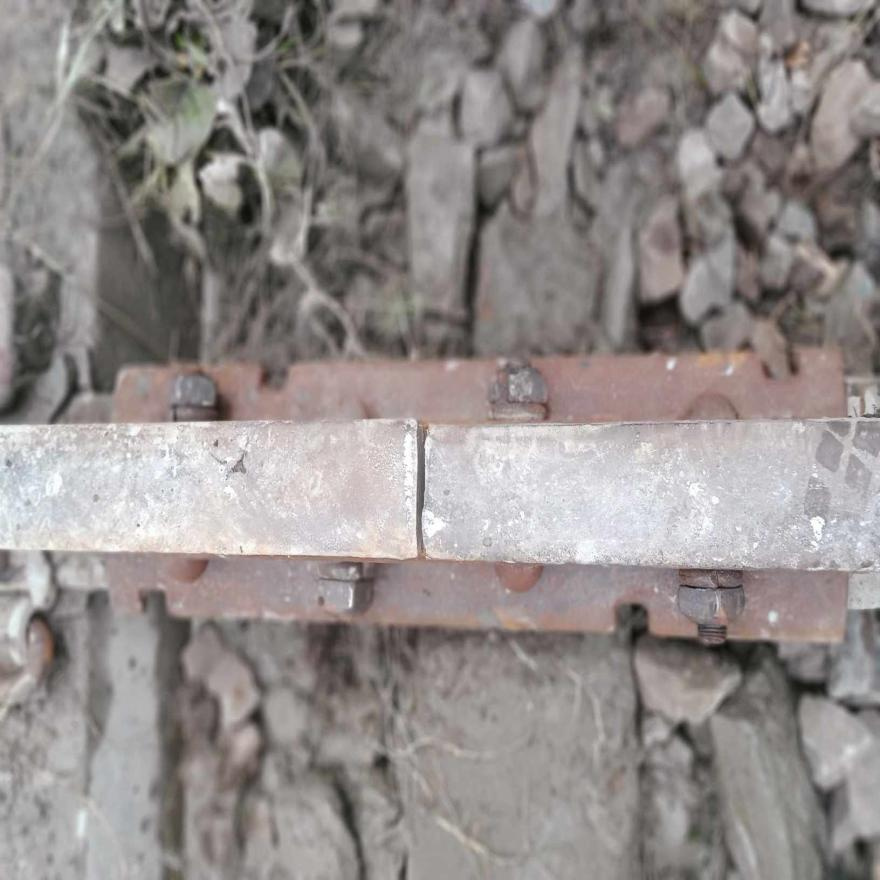railway-gap: (348, 394, 489, 576)
